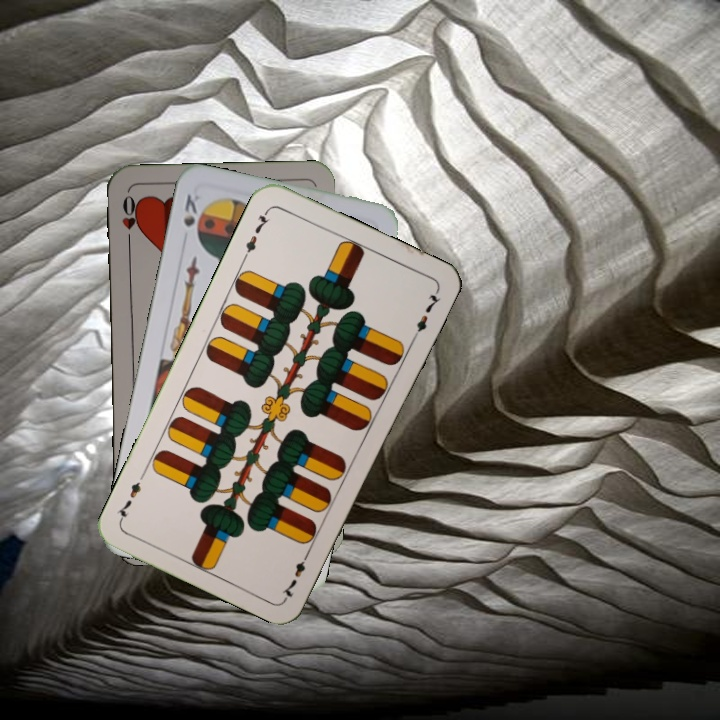E7: (278, 546, 313, 601), (239, 205, 273, 261)
HO: (118, 191, 141, 249)
SK: (179, 190, 204, 230)
